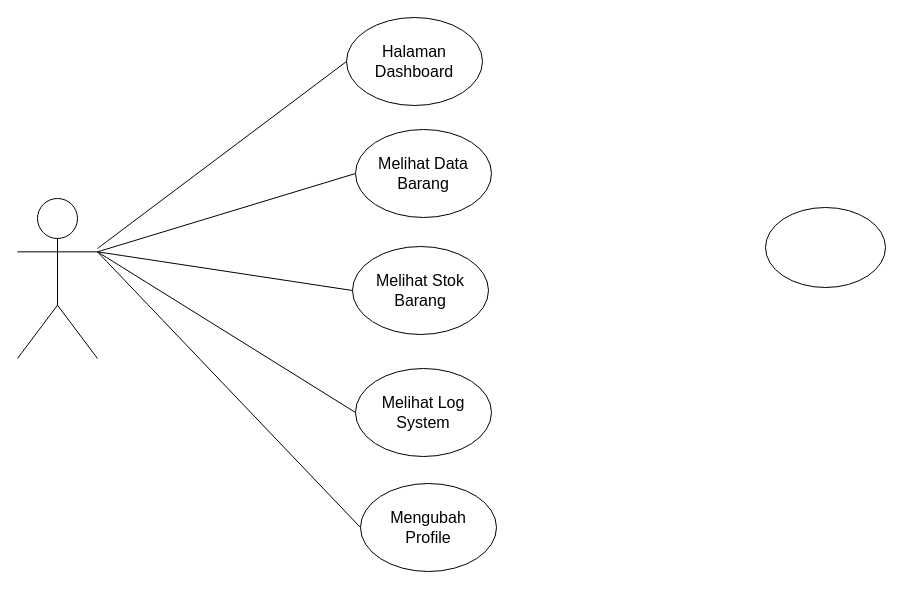
Image size: 903x589. Some labels were removed from this diagram. The centre of each missing label's shape, as x and y in pixels:
Login: (x=825, y=247)
User: (x=57, y=278)
